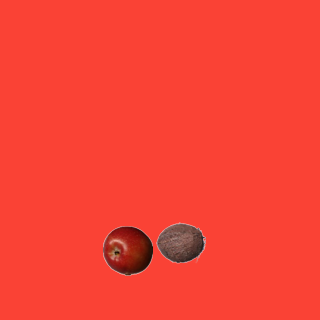Apple Braeburn: (102, 225, 152, 275)
Cocos: (155, 217, 205, 267)
